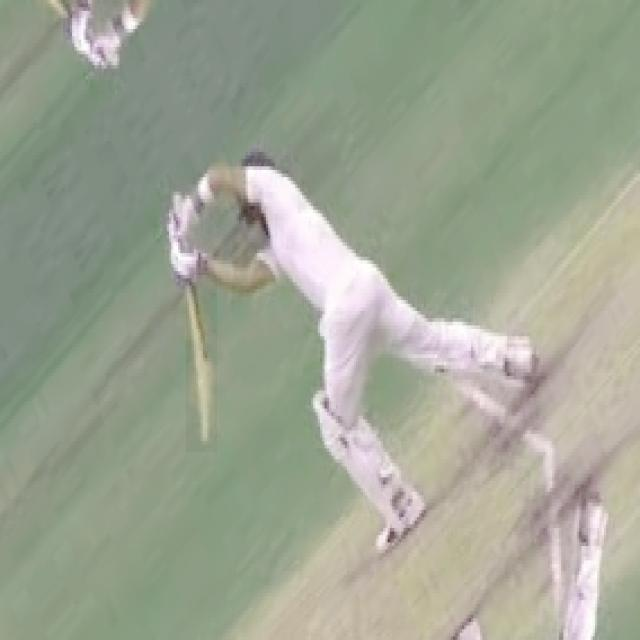bat: (184, 275, 217, 448)
